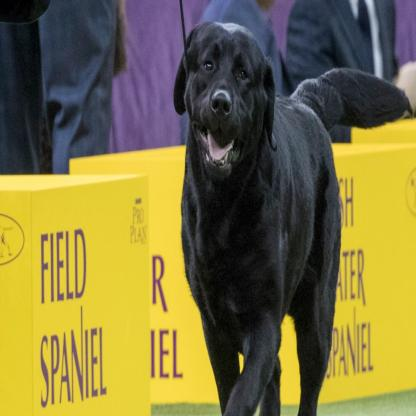dog: (172, 18, 414, 416)
